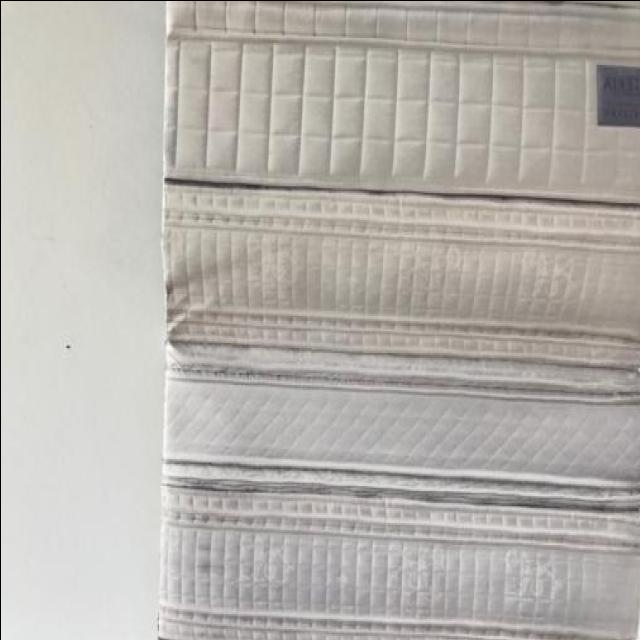kertas: (154, 0, 640, 640)
